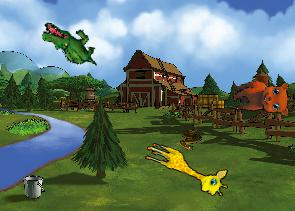bear: (229, 74, 294, 126)
crocodile: (37, 21, 102, 67)
giraffe: (138, 139, 233, 200)
